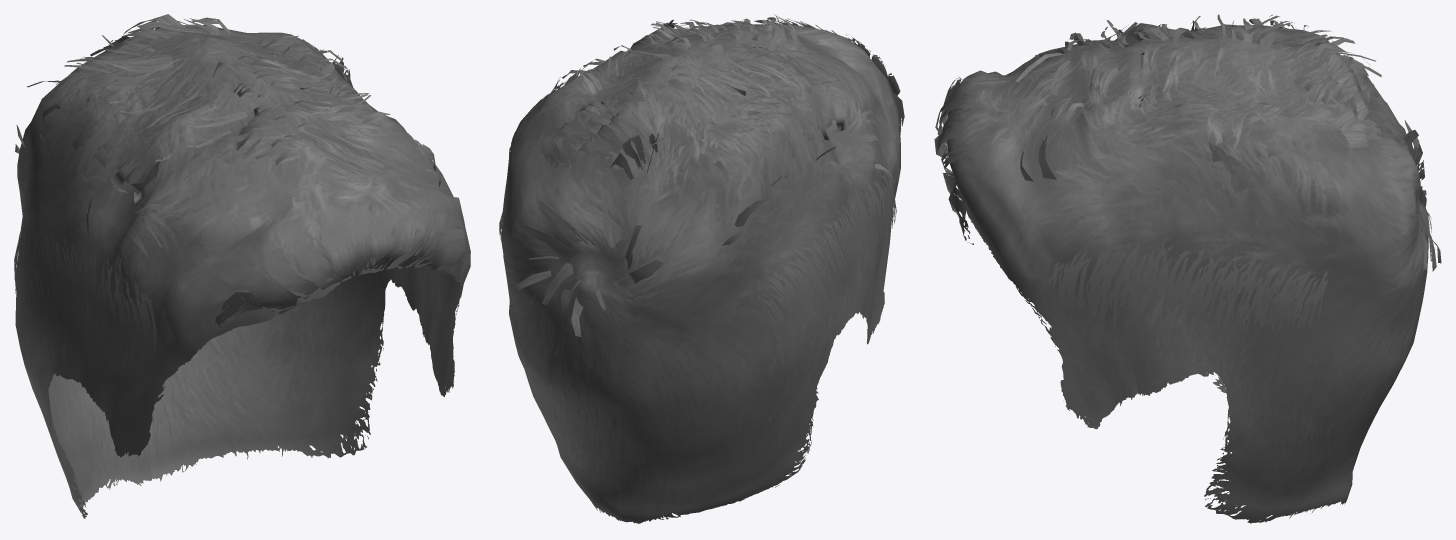
Rendered from short01.glb.
3 views of the same model, side by side, from view 1: azimuth 30°, elevation 25°; view 2: azimuth 150°, elevation 25°; view 3: azimuth 270°, elevation 25° (orthographic). The views are drawn at different scales.
Parts seen in each view (by area): view 1: editor_short01; view 2: editor_short01; view 3: editor_short01.
Boxes of the visible parts, x1=… form: editor_short01: x1=14, y1=14, x2=470, y2=518; editor_short01: x1=499, y1=14, x2=904, y2=523; editor_short01: x1=934, y1=14, x2=1441, y2=523.
Size of the model in its own units: 0.1547 by 0.2078 by 0.2064.
Materials: 1 (1 with a texture image).
